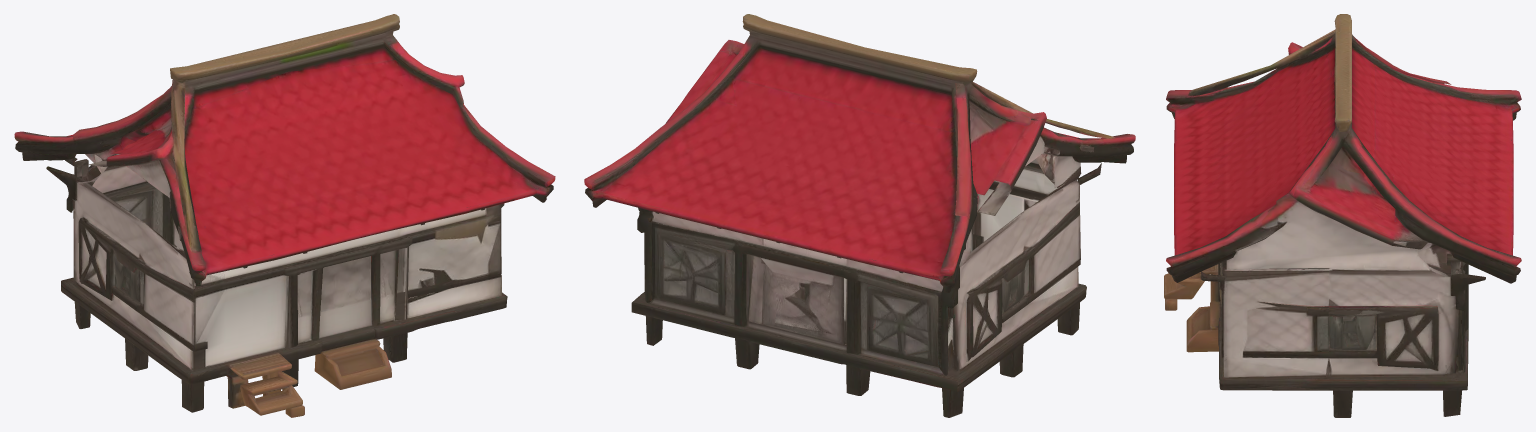
The model's file is treasure-kura.opt.glb.
3 renders of one model, left to right at view 1: azimuth 30°, elevation 25°; view 2: azimuth 150°, elevation 25°; view 3: azimuth 270°, elevation 25°, orthographic. The views are drawn at different scales.
Size of the model in its own units: 1.91 by 1.44 by 1.68.
1 material, 1 textured.
